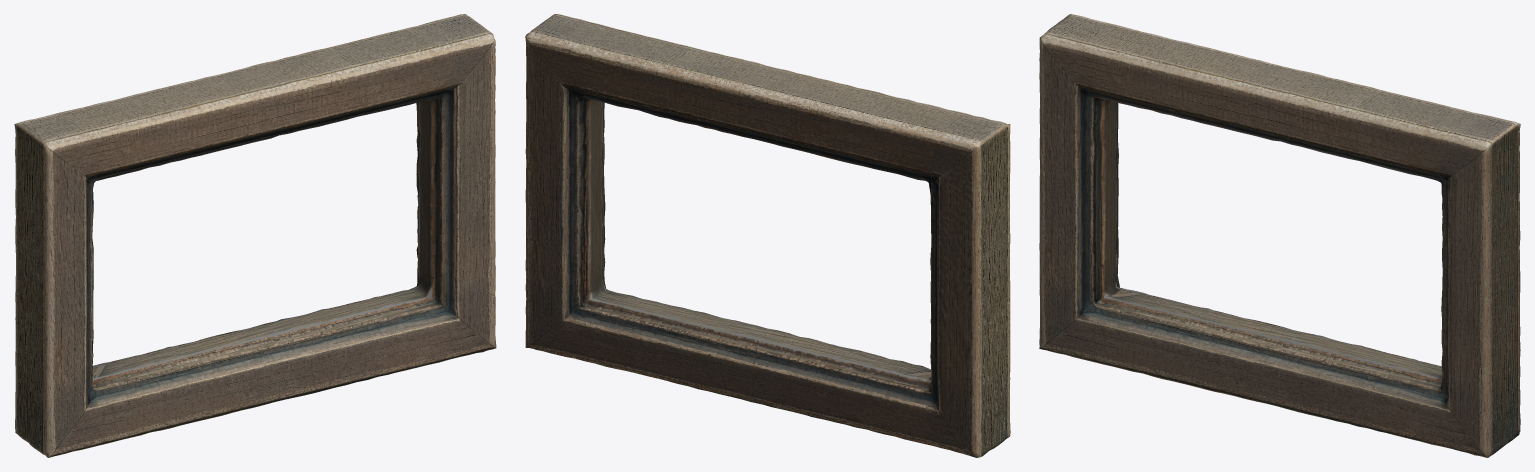
Rendered from Prop_PuppetBGFrame.fbx.
3 renders of one model, left to right at view 1: azimuth 30°, elevation 25°; view 2: azimuth 150°, elevation 25°; view 3: azimuth 330°, elevation 25°, orthographic.
Visible parts, largest first — view 1: texture_mapping; view 2: texture_mapping; view 3: texture_mapping.
Part boxes in pixels (x1,y1,x2,y2): texture_mapping: (14, 14, 496, 457); texture_mapping: (525, 14, 1010, 457); texture_mapping: (1039, 14, 1520, 457).
Size of the model in its own units: 1 by 0.134 by 0.6671.
Materials: 1 (1 with a texture image).
